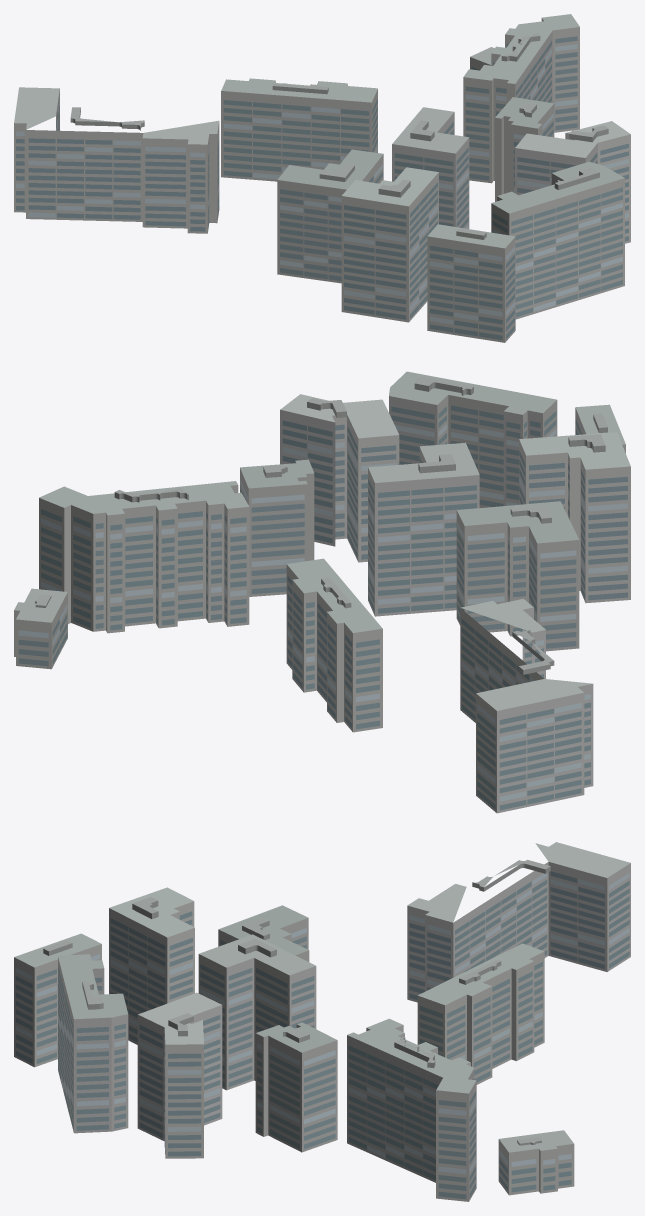
File: apt-a10024245.glb
3 views of the same model, one above another, from view 1: azimuth 30°, elevation 25°; view 2: azimuth 150°, elevation 25°; view 3: azimuth 270°, elevation 25° (orthographic). The views are drawn at different scales.
Parts seen in each view (by area): view 1: apt-a10024245; view 2: apt-a10024245; view 3: apt-a10024245.
Boxes of the visible parts, bbox=[...] form: apt-a10024245: bbox=[14, 14, 630, 342]; apt-a10024245: bbox=[14, 371, 630, 813]; apt-a10024245: bbox=[14, 842, 630, 1201].
Size of the model in its own units: 191 by 43 by 187.
